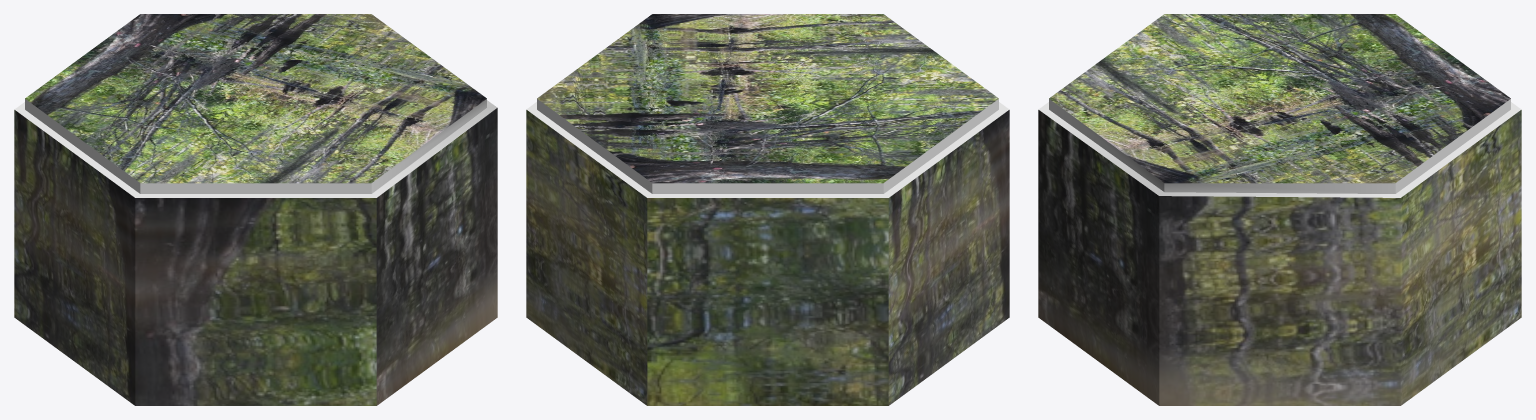
File: SwampHexagon.fbx
The picture shows the model from 3 angles, left to right: view 1: azimuth 30°, elevation 25°; view 2: azimuth 150°, elevation 25°; view 3: azimuth 270°, elevation 25°; orthographic projection.
Parts seen in each view (by area): view 1: Cylinder; view 2: Cylinder; view 3: Cylinder.
Part boxes in pixels (bbox=[...]): Cylinder: bbox=[14, 14, 497, 405]; Cylinder: bbox=[526, 14, 1009, 405]; Cylinder: bbox=[1038, 14, 1521, 405].
Bounding box in the file's own units: 173 × 100 × 200.
